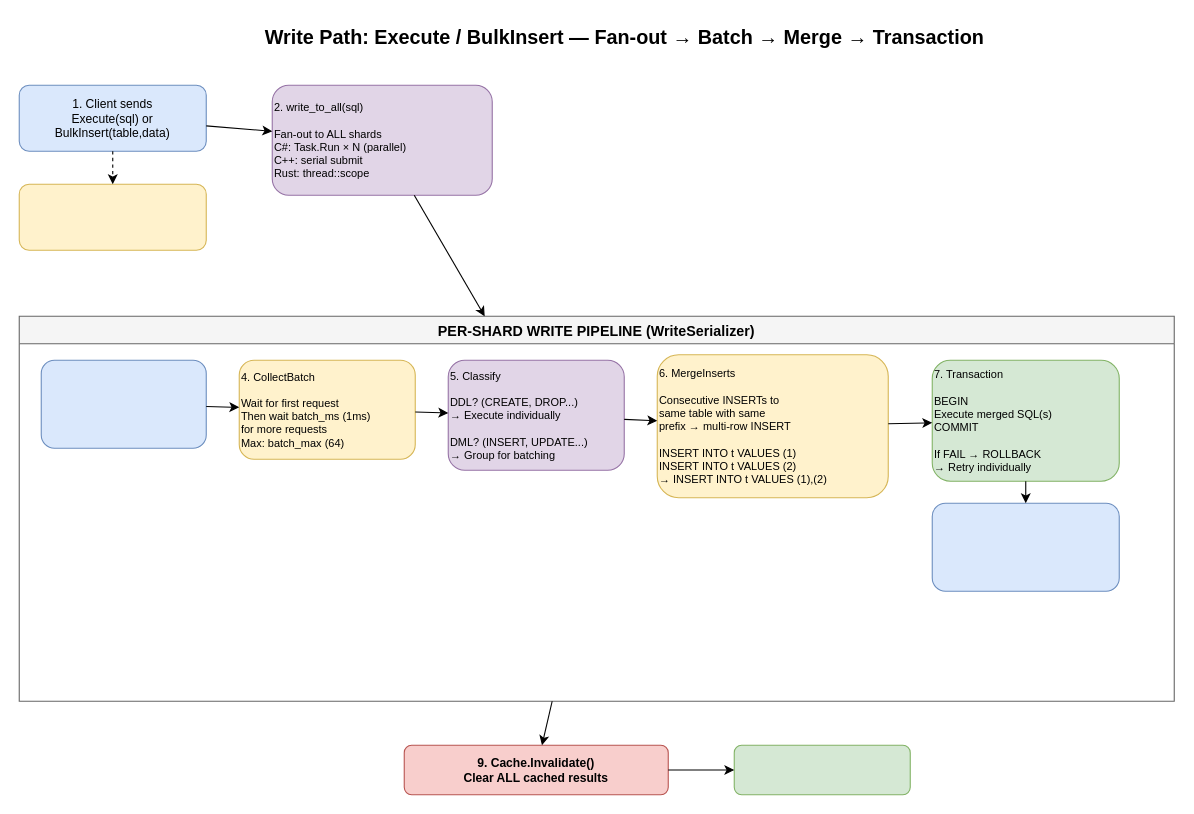
The diagram is 1194 pixels wide and 814 high, and some of its shapes have lost their labels. Here are the shapes that lost their labels. From the top down, the centre of each, then its label:
the point at 112,216: BulkInsert only: Build INSERT SQL from columnar data (type dispatch + escape)
the point at 123,403: 3. Submit(sql) Enqueue request Block on DoneSignal (30s timeout)
the point at 1025,546: 8. Signal Callers Set DoneSignal for each request in batch (unblocks Submit())
the point at 821,769: 10. Return success to client
